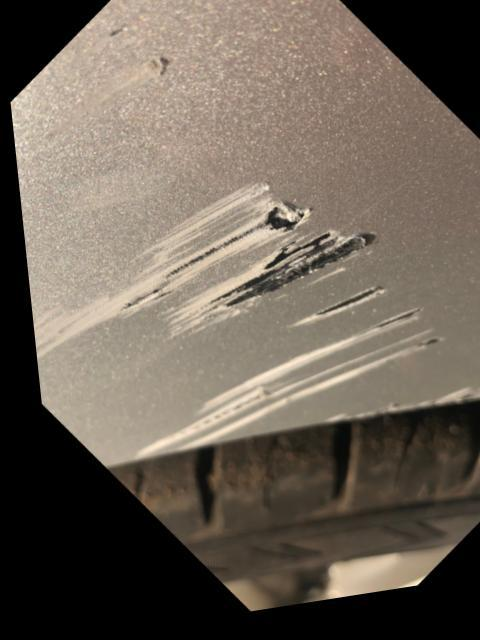scratch: (26, 172, 480, 467)
